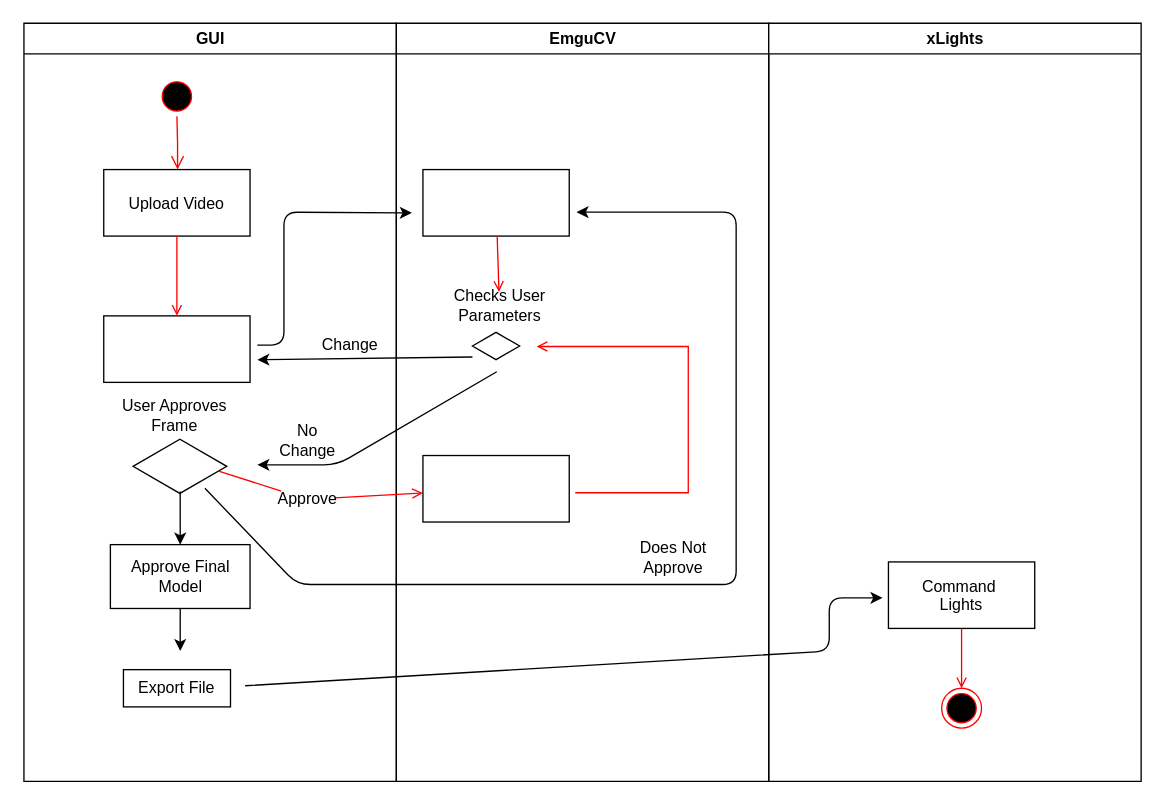
The diagram is 1164 pixels wide and 805 high, and some of its shapes have lost their labels. Here are the shapes that lost their labels. From the top down, the centre of each, then its label:
At [495,202]: "First Frame Analysis".
At [176,348]: "User Defines Parameters".
At [495,488]: "Next Frame Analysis".
